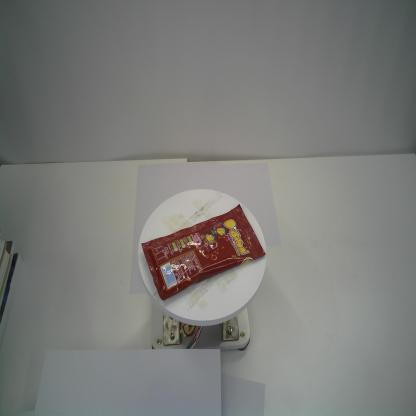Candy: (140, 202, 266, 303)
